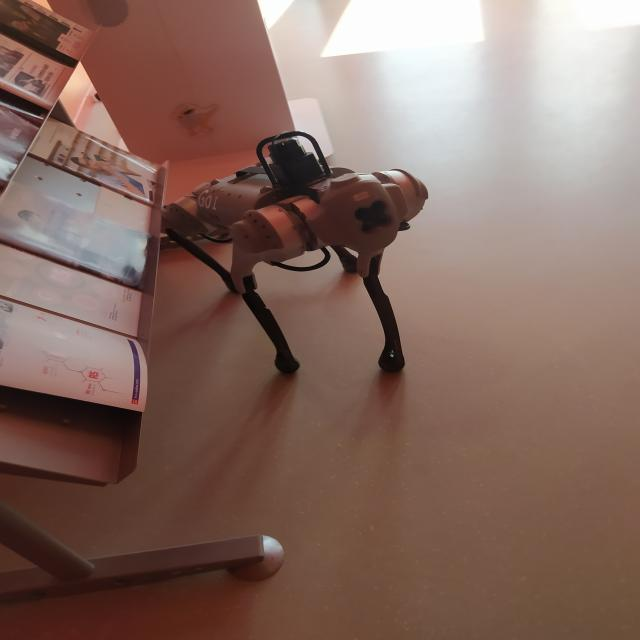unitree-go1-robot: (154, 121, 438, 393)
